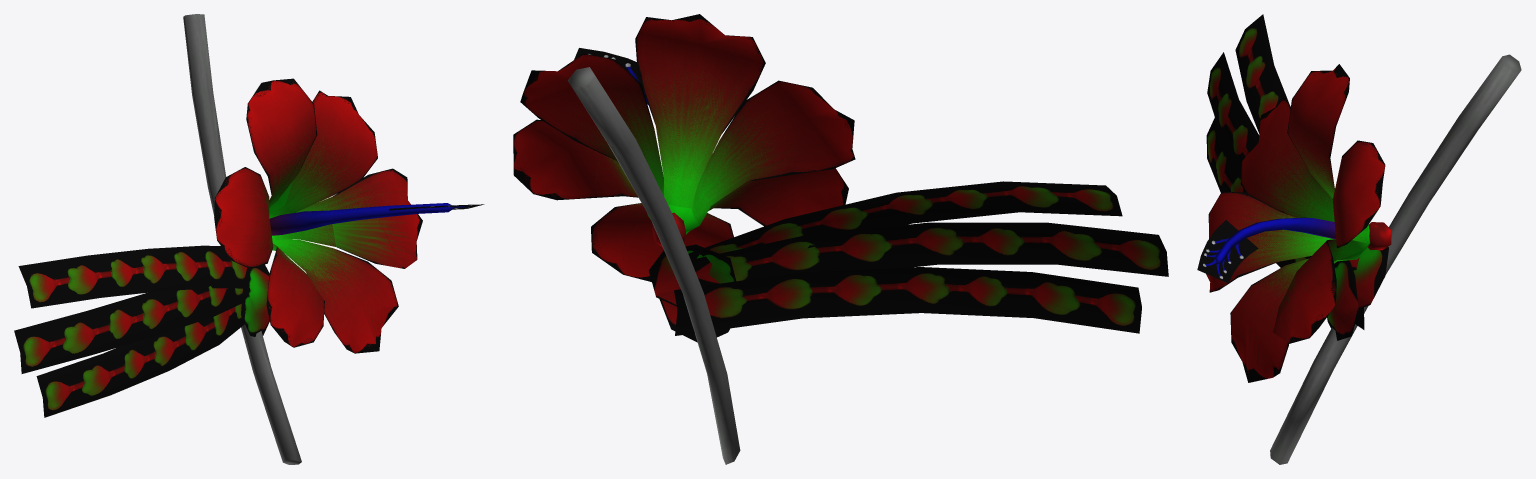
3 renders of one model, left to right at view 1: azimuth 30°, elevation 25°; view 2: azimuth 150°, elevation 25°; view 3: azimuth 270°, elevation 25°, orthographic. The views are drawn at different scales.
Visible parts, largest first — view 1: K1273; view 2: K1273; view 3: K1273.
Part boxes in pixels (x1,y1,x2,y2): K1273: (14,14,484,464); K1273: (513,14,1168,464); K1273: (1197,14,1521,464).
Size of the model in its own units: 0.5854 by 0.46 by 0.3295.
